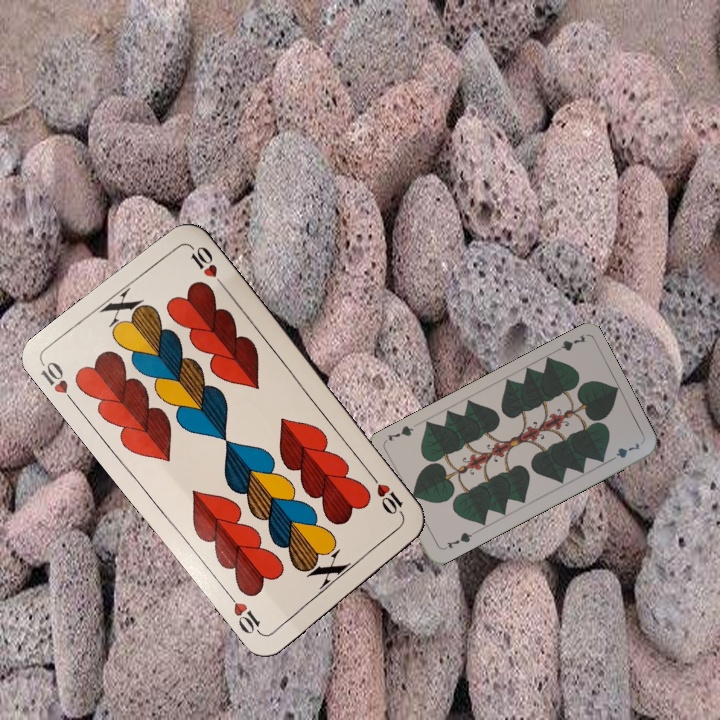G7: (548, 331, 588, 356), (443, 528, 476, 551)
H10: (37, 357, 80, 410), (366, 469, 407, 520)
